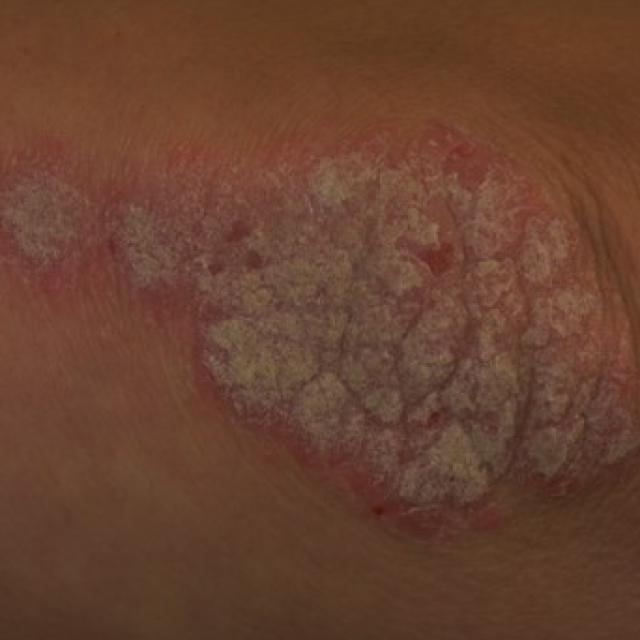Psoriasis: (0, 127, 640, 545)
